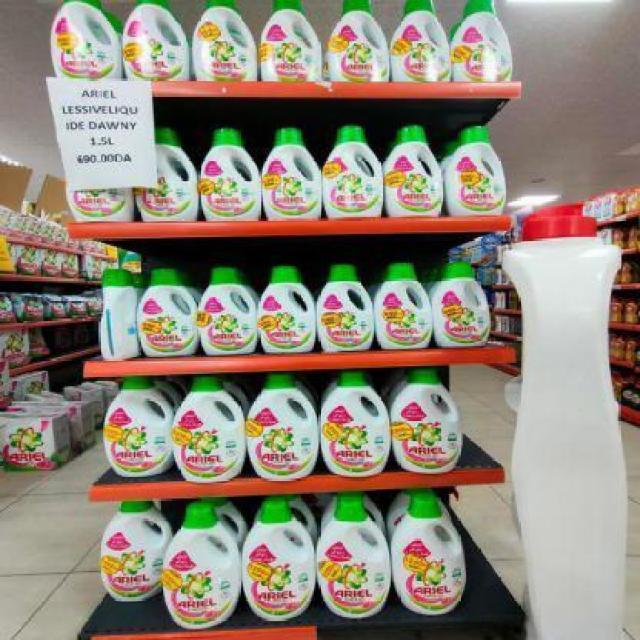Detergent: (146, 501, 240, 632), (387, 489, 476, 616), (237, 477, 312, 623), (310, 490, 387, 621), (239, 369, 319, 484), (167, 367, 242, 484), (90, 500, 176, 602), (436, 120, 527, 216), (105, 367, 178, 480), (38, 0, 130, 89), (394, 366, 466, 474), (197, 113, 263, 227), (321, 371, 394, 472), (139, 118, 205, 227), (380, 116, 448, 216), (135, 258, 201, 360), (118, 0, 194, 83), (319, 117, 382, 217), (191, 0, 260, 88), (254, 261, 320, 352), (448, 0, 516, 88), (372, 258, 435, 352), (256, 0, 330, 80), (316, 0, 390, 80), (314, 258, 378, 350), (195, 269, 260, 356), (263, 125, 323, 219), (429, 253, 489, 347), (390, 0, 455, 84)
